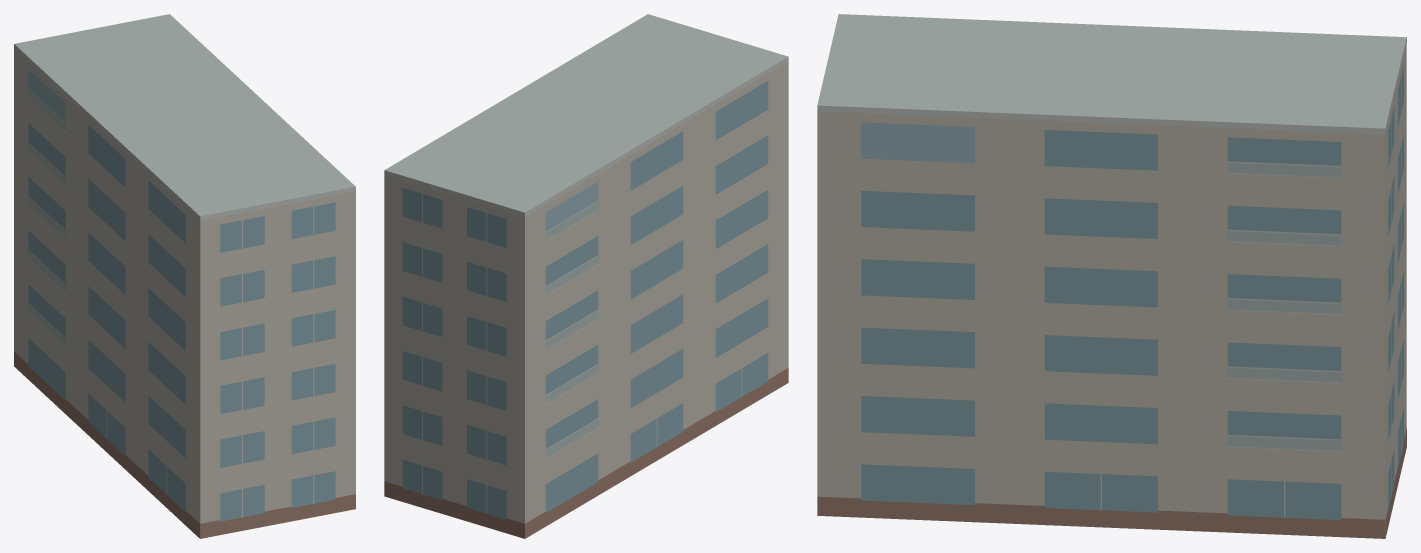
The model's file is survey-upis-32598226.glb.
The picture shows the model from 3 angles, left to right: view 1: azimuth 30°, elevation 25°; view 2: azimuth 150°, elevation 25°; view 3: azimuth 270°, elevation 25°; orthographic projection. The views are drawn at different scales.
Visible parts, largest first — view 1: survey-upis-32598226.tmp; view 2: survey-upis-32598226.tmp; view 3: survey-upis-32598226.tmp.
Boxes of the visible parts, x1,y1,x2,y2 form: survey-upis-32598226.tmp: [14, 14, 355, 538]; survey-upis-32598226.tmp: [384, 14, 788, 538]; survey-upis-32598226.tmp: [817, 14, 1406, 538].
Size of the model in its own units: 10.31 by 17.2 by 22.4.
